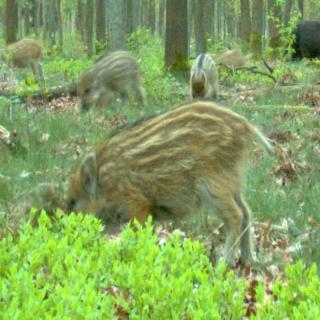Pig: (36, 88, 282, 284)
